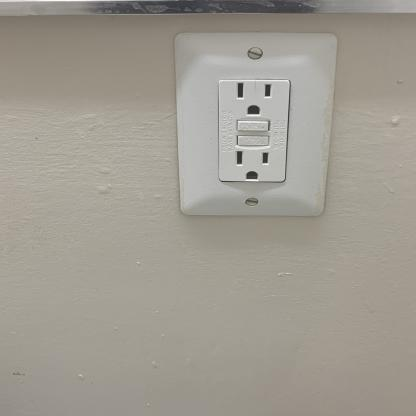OUTLET: (175, 31, 332, 219)
